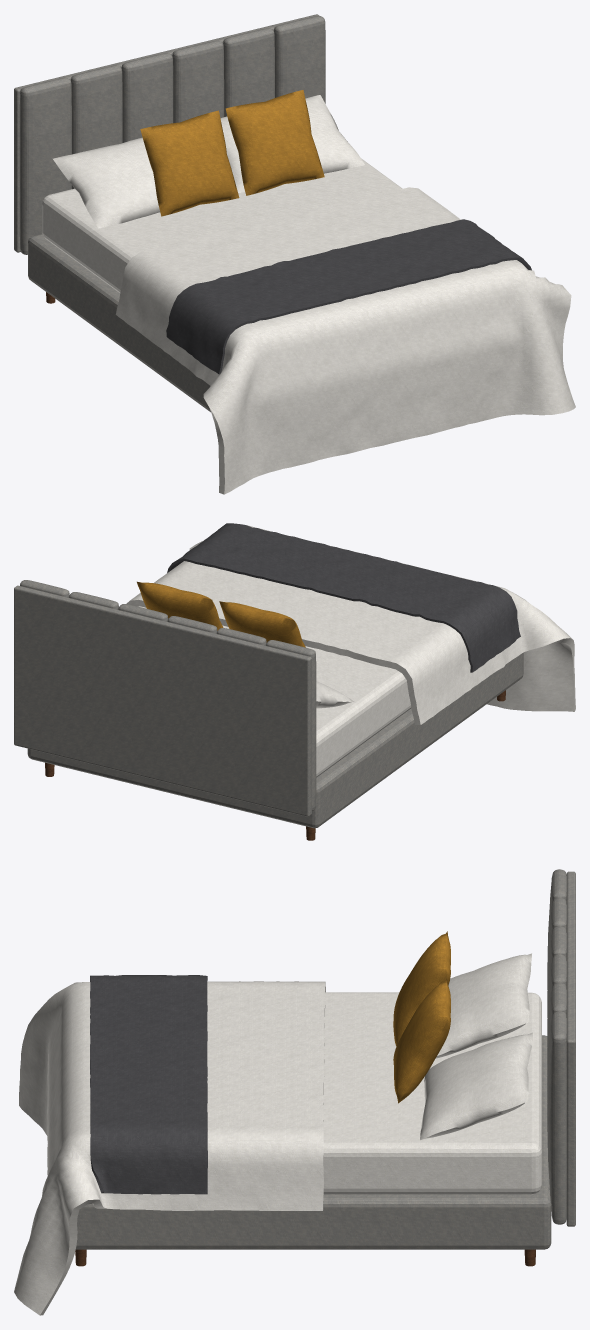
The model's file is bed_double_160.glb.
3 views of the same model, one above another, from view 1: azimuth 30°, elevation 25°; view 2: azimuth 150°, elevation 25°; view 3: azimuth 270°, elevation 25° (orthographic). The views are drawn at different scales.
Visible parts, largest first — view 1: almohada_0, base, manta, cojin_0; view 2: base, almohada_0, manta, cojin_0; view 3: almohada_0, base, manta, cojin_0.
Boxes of the visible parts, x1,y1,x2,y2 form: almohada_0: (42,95,575,494); base: (14,14,325,412); manta: (166,219,531,374); cojin_0: (140,90,324,216); base: (14,580,523,828); almohada_0: (126,525,575,777); manta: (167,523,520,672); cojin_0: (137,581,305,647); almohada_0: (14,953,541,1315); base: (75,869,575,1249); manta: (90,975,207,1194); cojin_0: (393,931,450,1103).
Bounding box in the file's own units: 2.12 × 1.26 × 2.4.
Materials: 5 (5 with a texture image).
